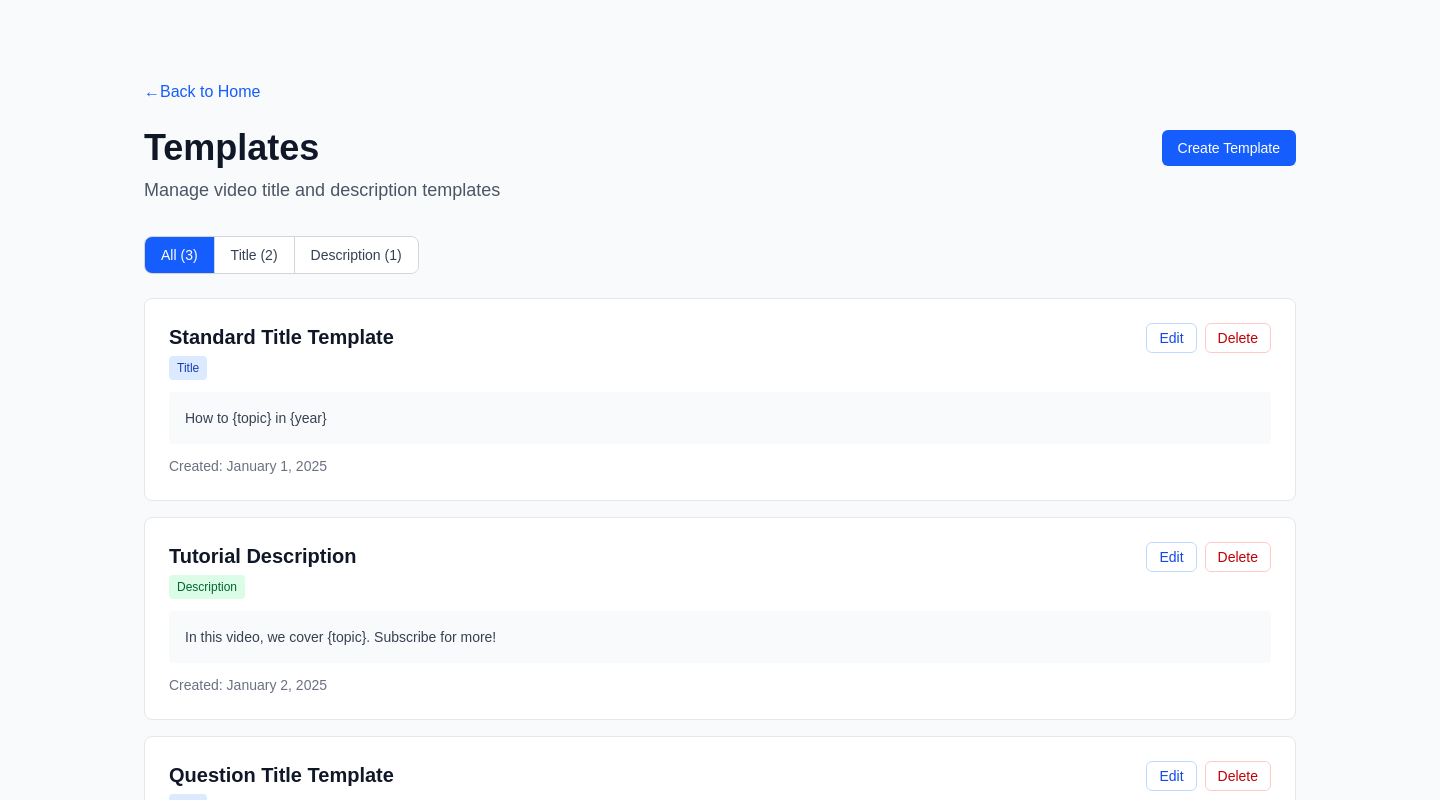
TemplatesPage › Template Filtering › should filter to show only Description templates
The width and height of the screenshot is (1440, 800).
Check: the heading "Standard Title Template" is shown, box [169,326,394,348]
Click the button "Description (1)": [356, 255] box [294,237,418,273]
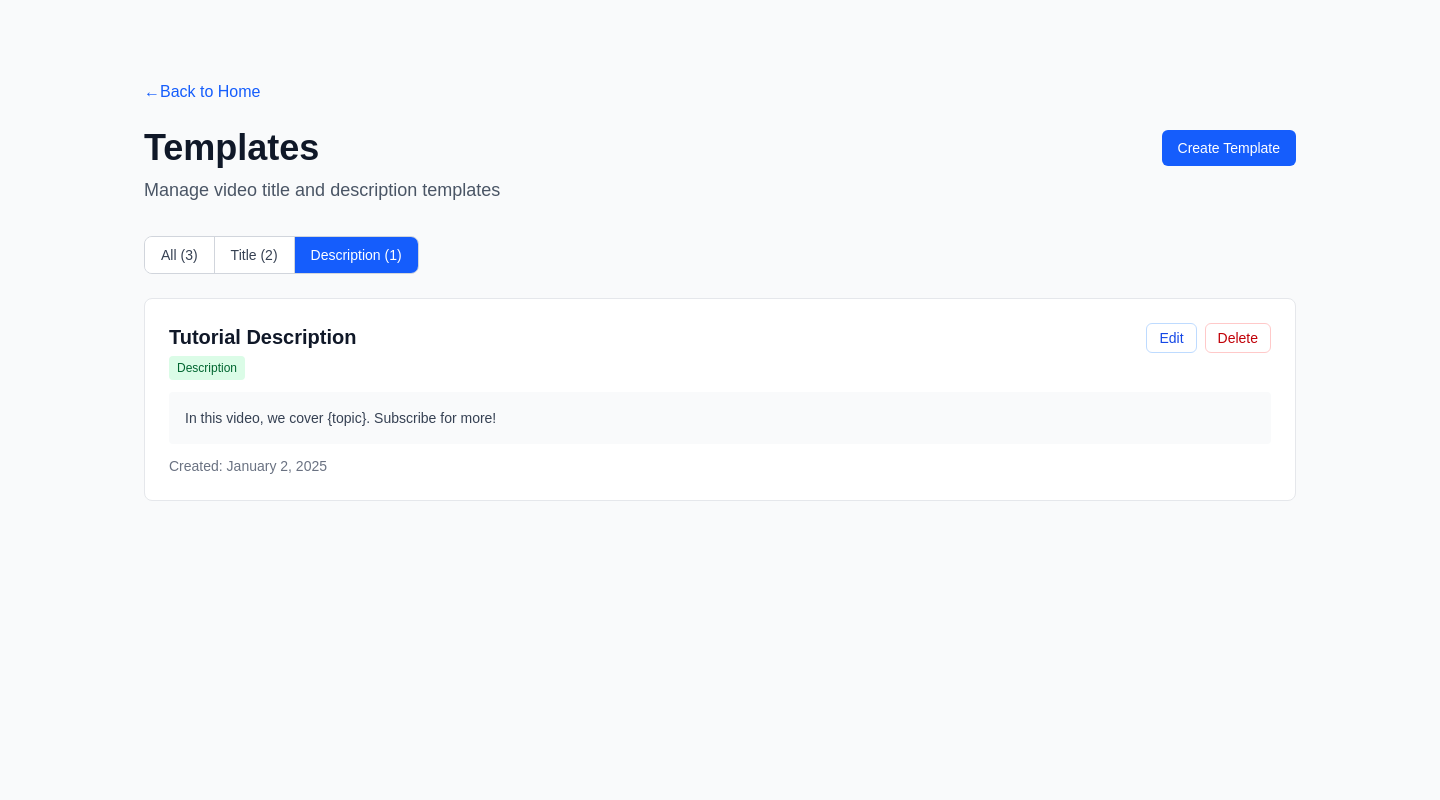
Check: the heading "Tutorial Description" is shown, box [169,326,356,348]
Check: the heading "Standard Title Template" is gone
Check: the heading "Question Title Template" is gone
